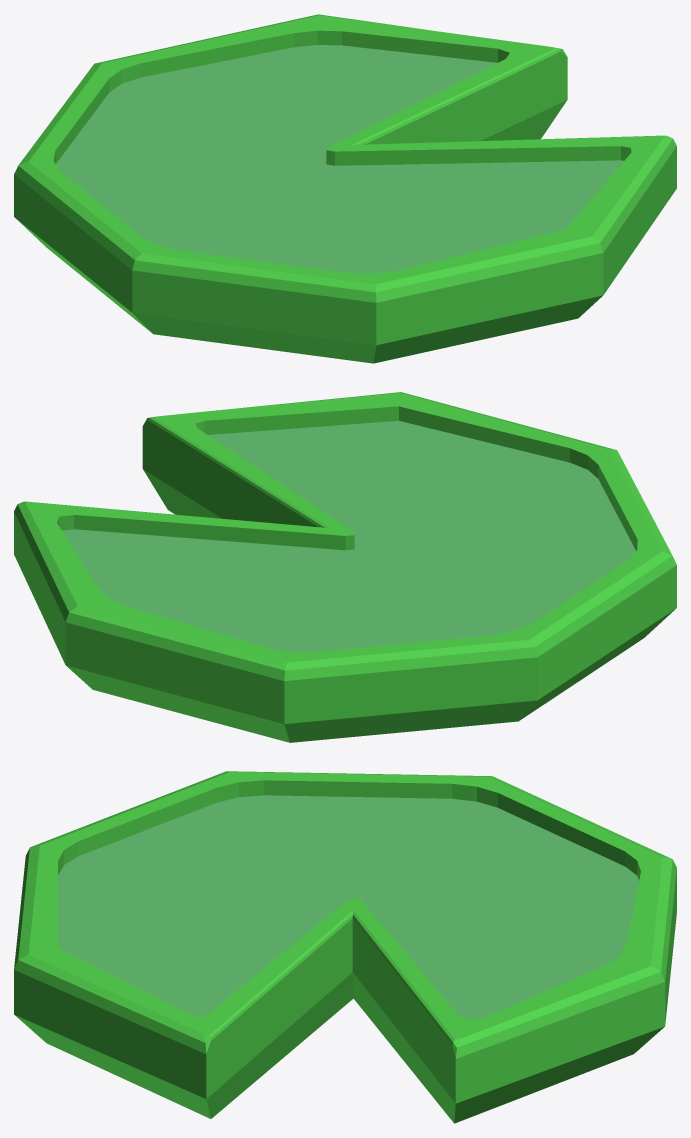
The model's file is Lillypad.glb.
3 renders of one model, top to bottom at view 1: azimuth 30°, elevation 25°; view 2: azimuth 150°, elevation 25°; view 3: azimuth 270°, elevation 25°, orthographic. The views are drawn at different scales.
Parts seen in each view (by area): view 1: Cylinder; view 2: Cylinder; view 3: Cylinder.
Part boxes in pixels (x1,y1,x2,y2): Cylinder: [14, 14, 676, 363]; Cylinder: [14, 392, 676, 742]; Cylinder: [14, 771, 676, 1123].
Size of the model in its own units: 1.98 by 0.3016 by 1.98.
